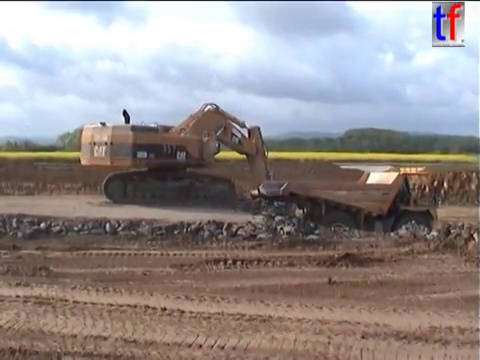excavator: (77, 100, 290, 230)
truck: (255, 163, 447, 255)
